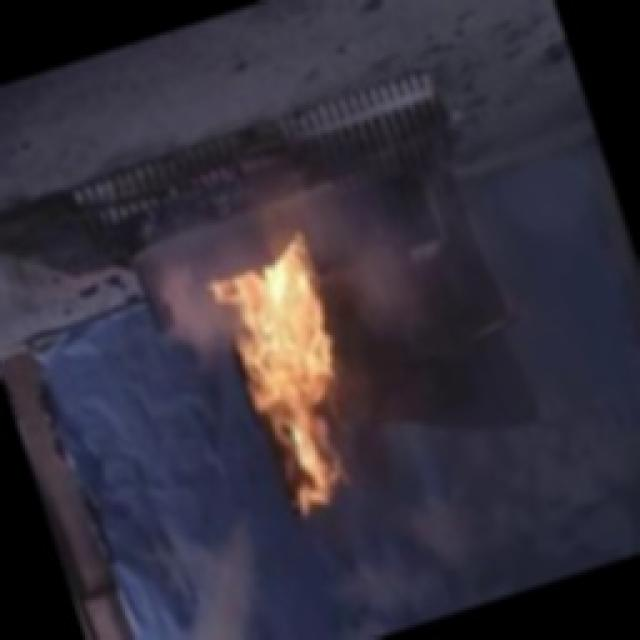fire: (191, 213, 421, 535)
